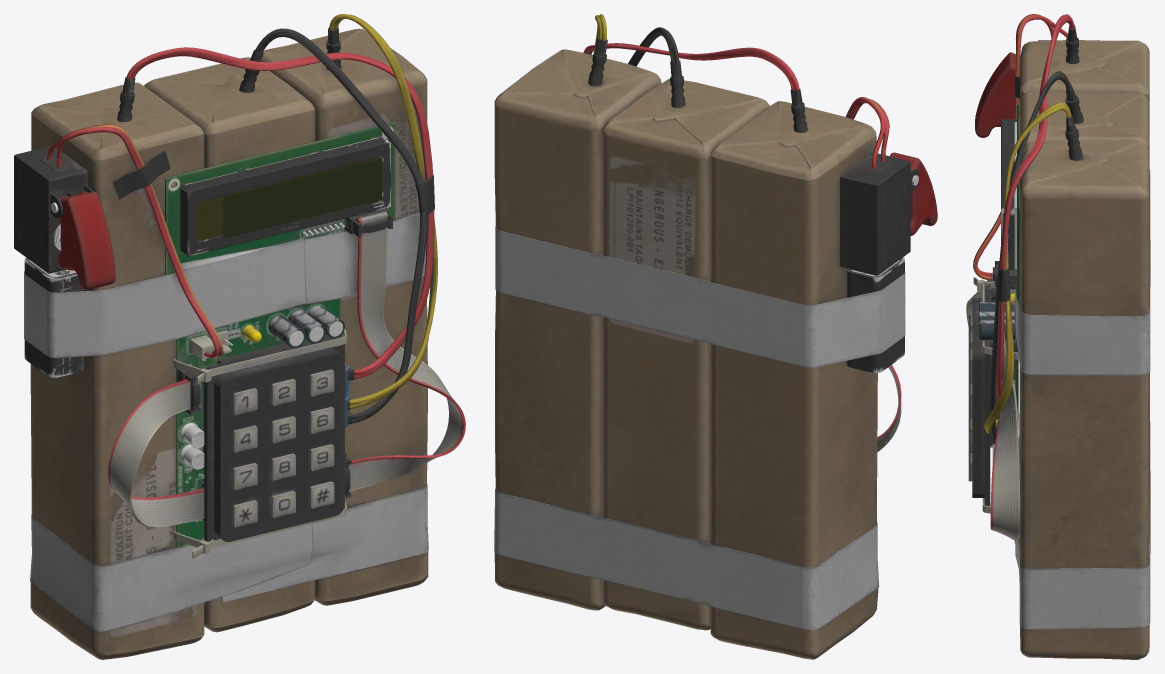
File: c4-device.glb
3 renders of one model, left to right at view 1: azimuth 30°, elevation 25°; view 2: azimuth 150°, elevation 25°; view 3: azimuth 270°, elevation 25°, orthographic. The views are drawn at different scales.
Visible parts, largest first — view 1: casing, panel, charge_1, charge_3, charge_2, arm, controlpanel0_c4_panorama_control_panel, harness; view 2: casing, charge_1, charge_3, charge_2, arm; view 3: charge_3, casing, panel, charge_1, charge_2, arm, harness.
Part boxes in pixels (x1,y1,x2,y2): casing: [14, 27, 434, 631]; panel: [108, 122, 463, 558]; charge_1: [30, 82, 204, 659]; charge_3: [261, 14, 437, 605]; charge_2: [144, 57, 315, 632]; arm: [58, 124, 222, 348]; controlpanel0_c4_panorama_control_panel: [223, 158, 381, 238]; harness: [131, 168, 465, 526]; casing: [494, 27, 919, 630]; charge_1: [710, 101, 878, 659]; charge_3: [494, 14, 661, 610]; charge_2: [602, 79, 769, 630]; arm: [845, 97, 937, 235]; charge_3: [984, 102, 1149, 659]; casing: [990, 14, 1150, 629]; panel: [966, 105, 1020, 541]; charge_1: [1020, 40, 1149, 118]; charge_2: [1019, 92, 1149, 542]; arm: [973, 14, 1052, 265]; harness: [967, 265, 1015, 431].
Size of the model in its own units: 179 by 254 by 78.83.
Materials: 2 (1 with a texture image).
